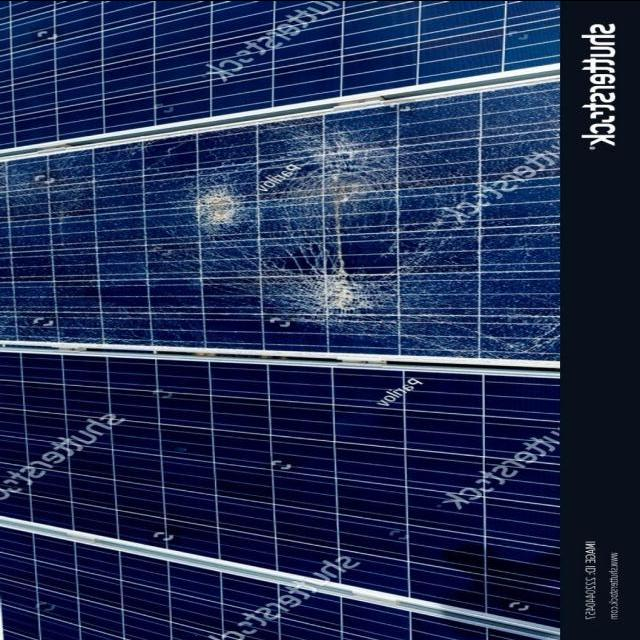cracked: (0, 80, 559, 360)
